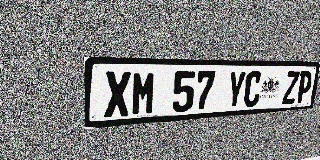5: (172, 71, 196, 113)
7: (193, 71, 216, 111)
C: (242, 71, 263, 107)
M: (131, 71, 156, 116)
P: (295, 71, 313, 103)
X: (104, 71, 131, 118)
Y: (225, 71, 246, 109)
Z: (282, 71, 300, 104)
